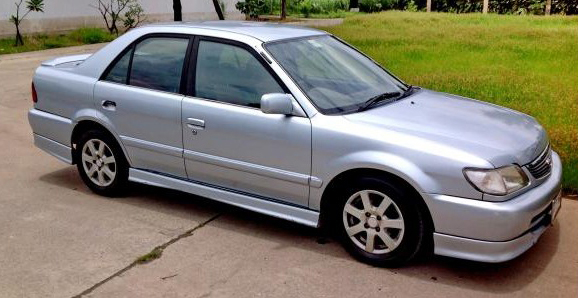sedan: (27, 18, 564, 268)
